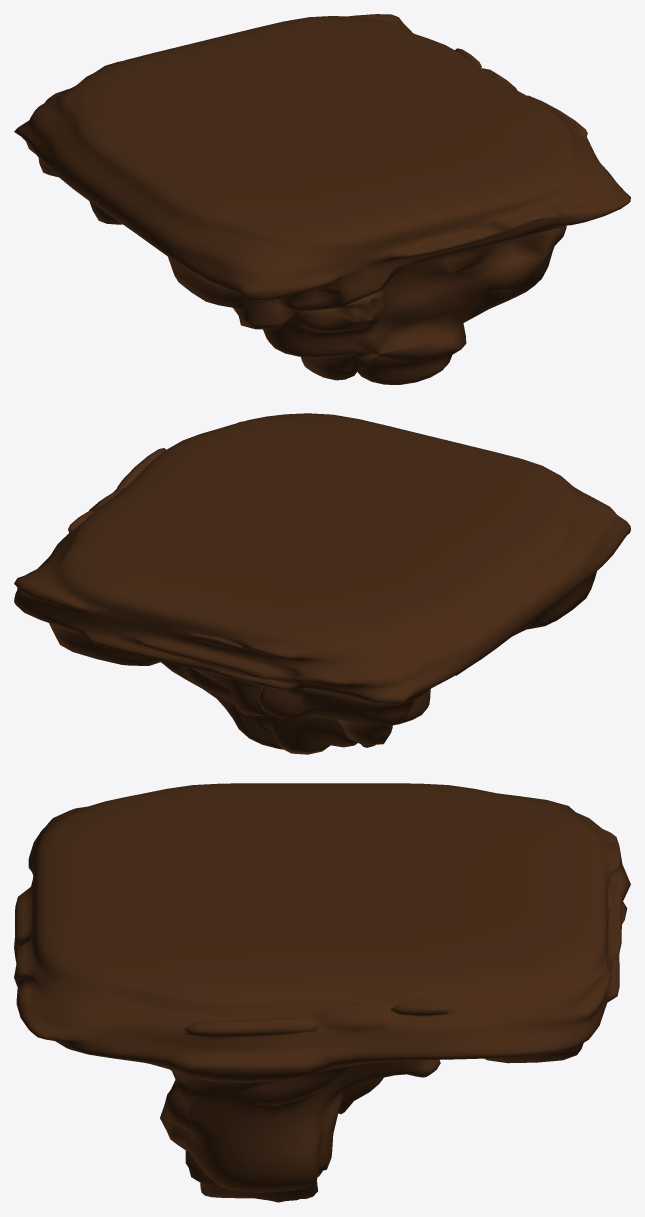
File: platform_4.fbx
The picture shows the model from 3 angles, top to bottom: view 1: azimuth 30°, elevation 25°; view 2: azimuth 150°, elevation 25°; view 3: azimuth 270°, elevation 25°; orthographic projection. The views are drawn at different scales.
Visible parts, largest first — view 1: Cube.012; view 2: Cube.012; view 3: Cube.012.
Part boxes in pixels (left/top/right/bottom): Cube.012: left=14, top=14, right=630, bottom=384; Cube.012: left=14, top=413, right=630, bottom=754; Cube.012: left=14, top=783, right=630, bottom=1202.
Bounding box in the file's own units: 142 × 77.18 × 150.
